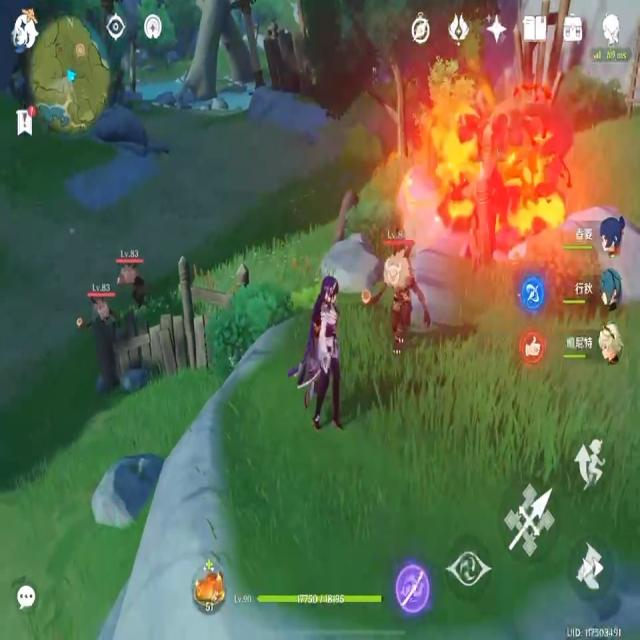genshin-hilichurls: (369, 224, 429, 368), (68, 283, 118, 343), (118, 252, 156, 323)
